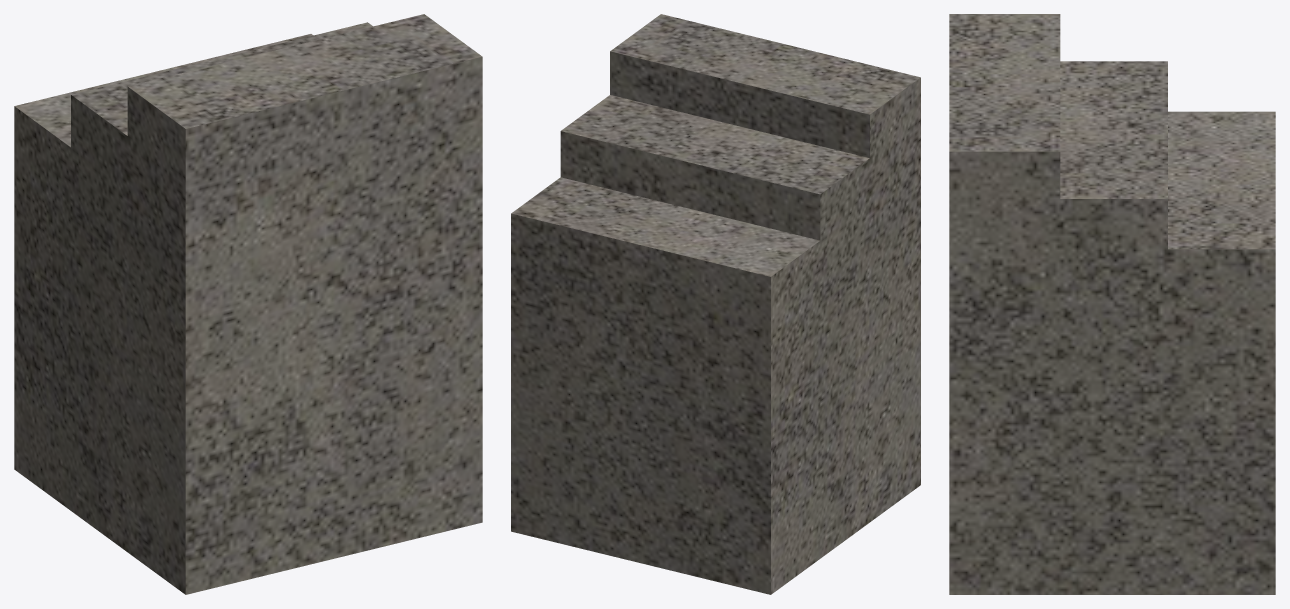
Rendered from escalera03.obj.
3 renders of one model, left to right at view 1: azimuth 30°, elevation 25°; view 2: azimuth 150°, elevation 25°; view 3: azimuth 270°, elevation 25°, orthographic. The views are drawn at different scales.
Bounding box in the file's own units: 1 × 1.5 × 1.
1 material, 1 textured.
